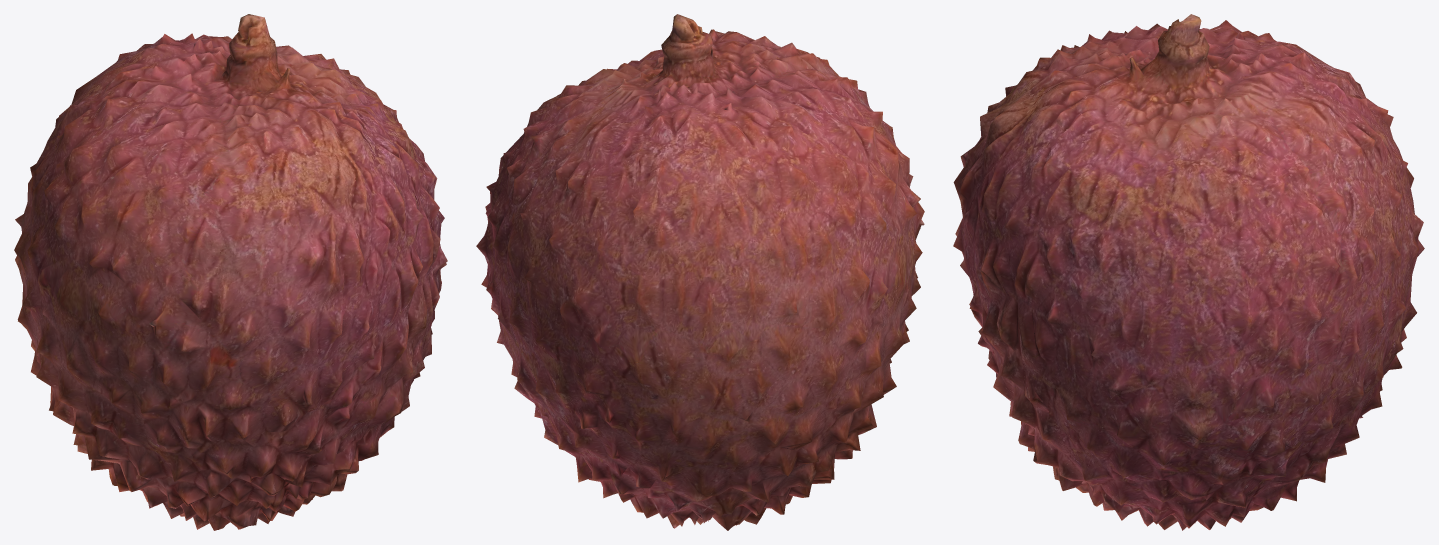
Rendered from food_lychee_01.glb.
The picture shows the model from 3 angles, left to right: view 1: azimuth 30°, elevation 25°; view 2: azimuth 150°, elevation 25°; view 3: azimuth 270°, elevation 25°; orthographic projection. The views are drawn at different scales.
Visible parts, largest first — view 1: food_lychee_01; view 2: food_lychee_01; view 3: food_lychee_01.
Part boxes in pixels (box(x1,y1,x2,y2)): food_lychee_01: box(14, 14, 447, 530); food_lychee_01: box(476, 14, 924, 530); food_lychee_01: box(953, 14, 1424, 530).
Bounding box in the file's own units: 0.0409 × 0.0506 × 0.042.
Materials: 1 (1 with a texture image).
